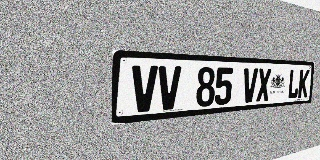5: (215, 67, 233, 105)
8: (196, 67, 216, 107)
K: (298, 69, 310, 98)
L: (287, 69, 300, 99)
V: (131, 65, 158, 113), (157, 66, 181, 111), (242, 68, 258, 103)
X: (256, 68, 271, 102)
